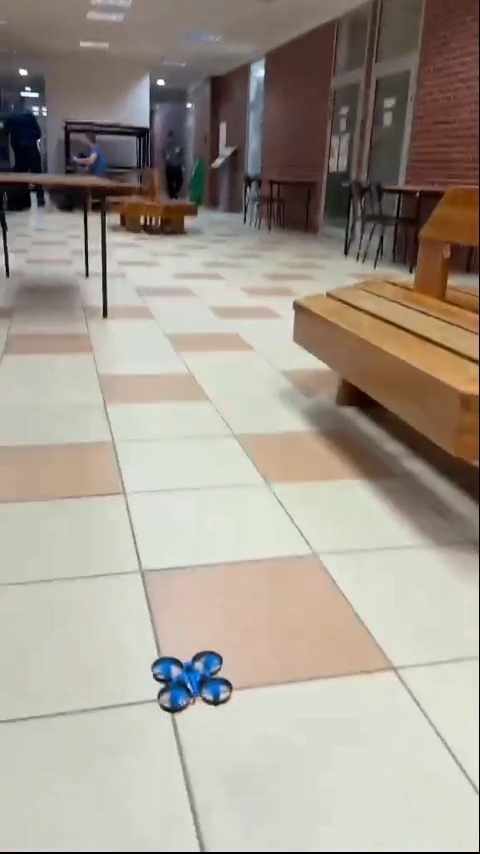drone: (155, 655, 227, 707)
no vest: (8, 88, 53, 192), (66, 126, 104, 187), (158, 127, 186, 196)
